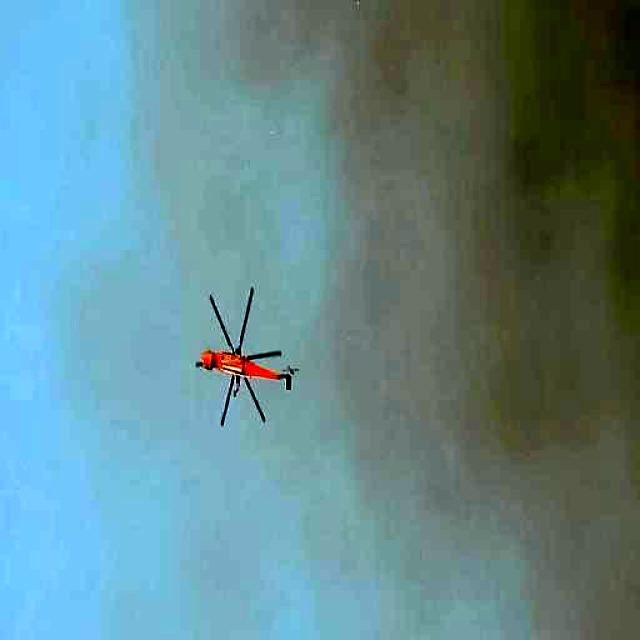drone: (189, 282, 300, 439)
